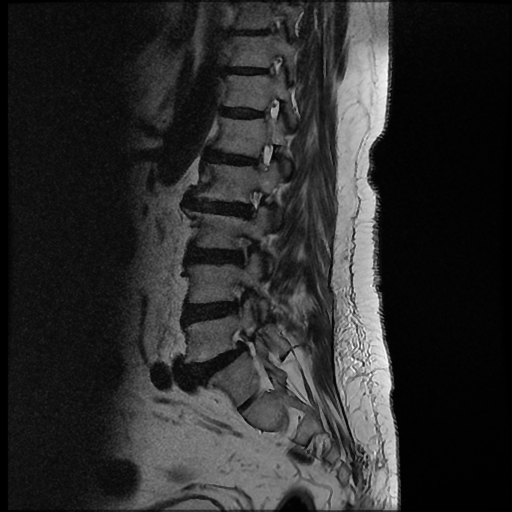LFS0: (248, 128, 289, 181)
LFS1: (236, 180, 277, 229)
LFS3: (227, 225, 267, 276), (222, 281, 263, 329)
